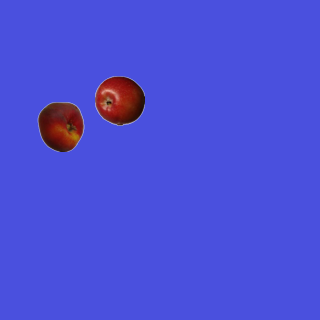Apple Braeburn: (94, 75, 144, 125)
Nectarine Flat: (35, 101, 85, 151)
